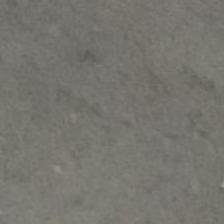Non_Crack: (28, 12, 224, 224)
